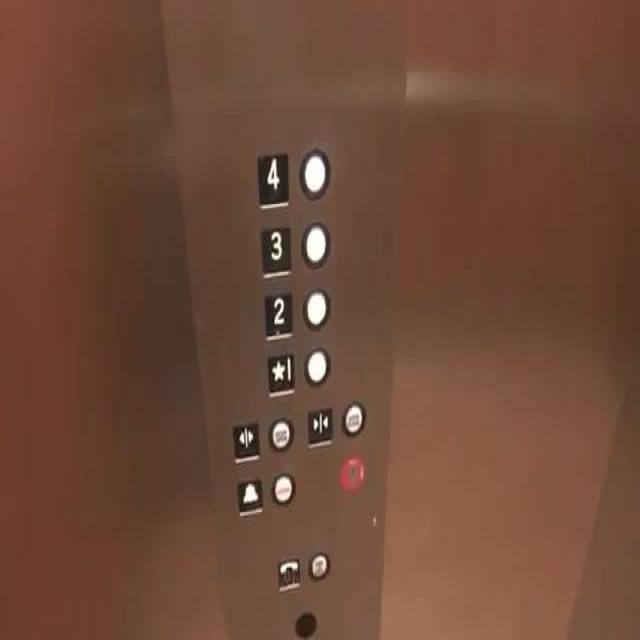2: (262, 288, 296, 341)
3: (258, 222, 291, 278)
4: (253, 150, 290, 210)
alarm: (232, 473, 266, 518)
call: (276, 555, 302, 596)
close: (302, 401, 335, 452)
empty: (297, 142, 334, 206), (298, 280, 332, 335), (301, 219, 330, 273), (302, 343, 331, 392)
keyhole: (334, 452, 364, 497)
open: (230, 416, 260, 469)
s1: (265, 348, 294, 397)
text_blur: (338, 394, 366, 442), (267, 414, 295, 458), (270, 466, 297, 510), (308, 546, 330, 586)
